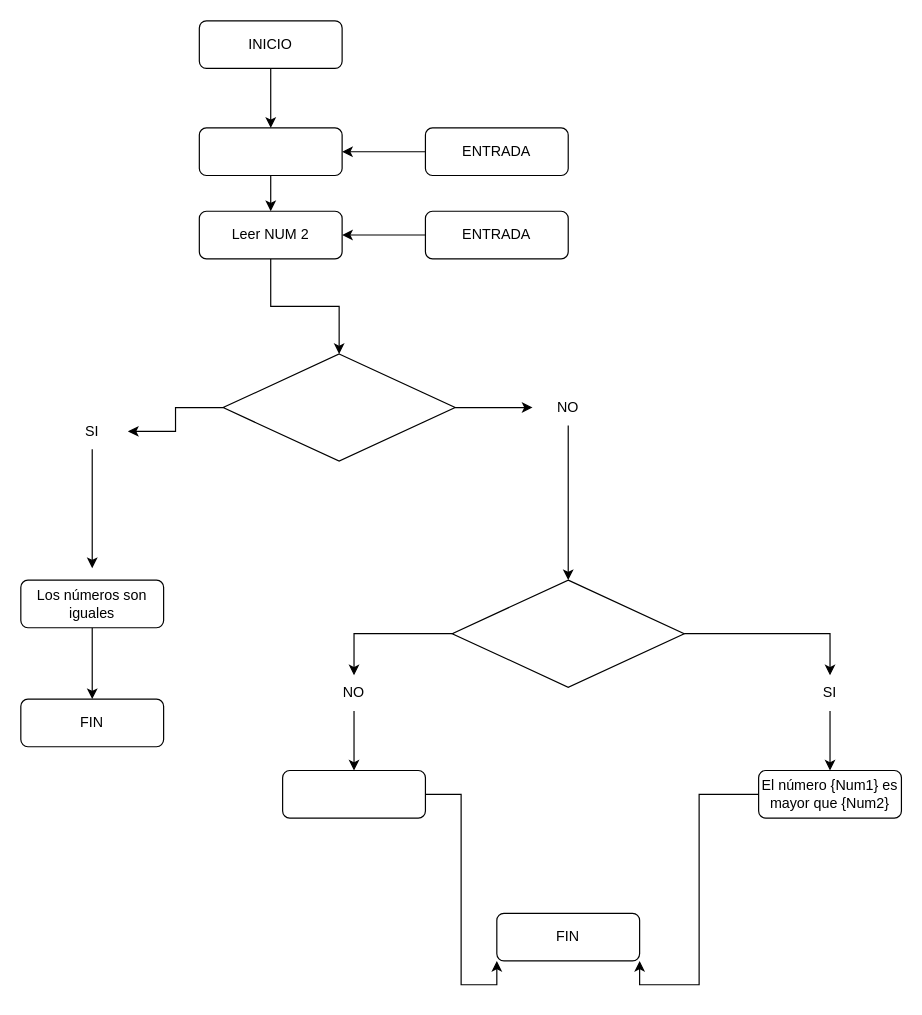
The diagram is 922 pixels wide and 1015 high, and some of its shapes have lost their labels. Each missing label, with the centre of its shape:
El número {Num2} es mayor que {num1}: the point at 353,793
Leer NUM 1: the point at 270,151
Num1 == Num2 ?: the point at 338,407
Num1 > Num2 ?: the point at 567,633
